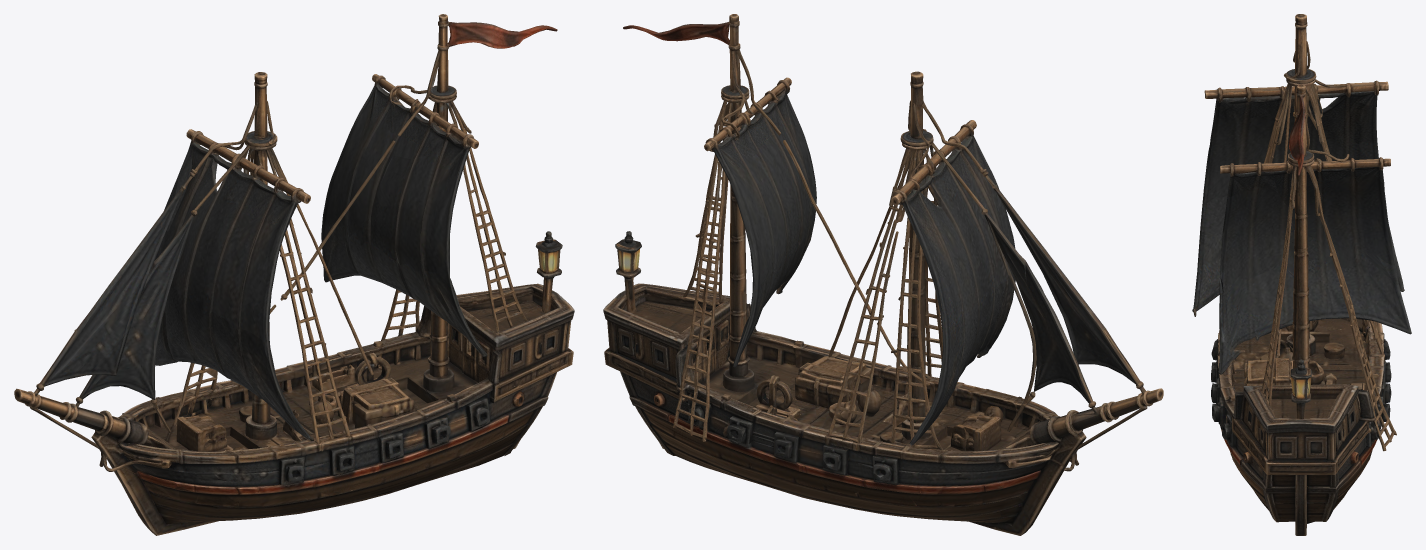
The model's file is midnight_mariner.glb.
3 renders of one model, left to right at view 1: azimuth 30°, elevation 25°; view 2: azimuth 150°, elevation 25°; view 3: azimuth 270°, elevation 25°, orthographic. The views are drawn at different scales.
Parts seen in each view (by area): view 1: output_unwrapped; view 2: output_unwrapped; view 3: output_unwrapped.
Part boxes in pixels (<box>): output_unwrapped: <box>14,14,574,535</box>; output_unwrapped: <box>603,14,1163,535</box>; output_unwrapped: <box>1192,14,1411,535</box>.
Size of the model in its own units: 1.9 by 1.5 by 0.7131.
Materials: 1 (1 with a texture image).
